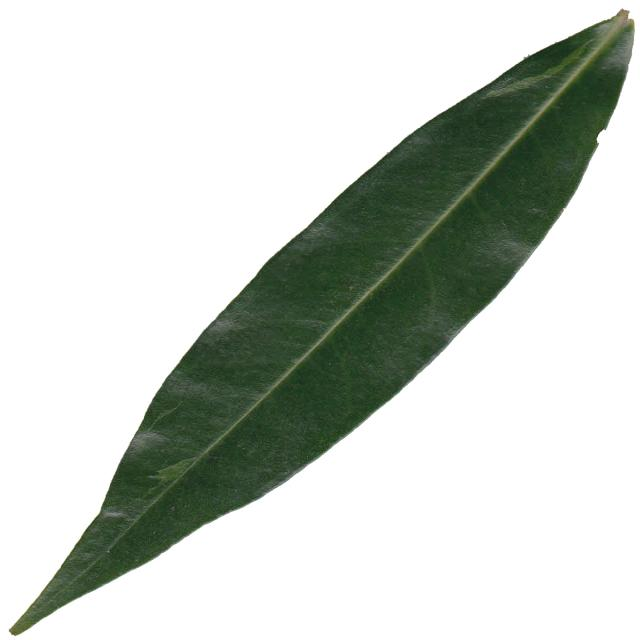Medicinal-Rose Apple: (10, 5, 640, 640)
